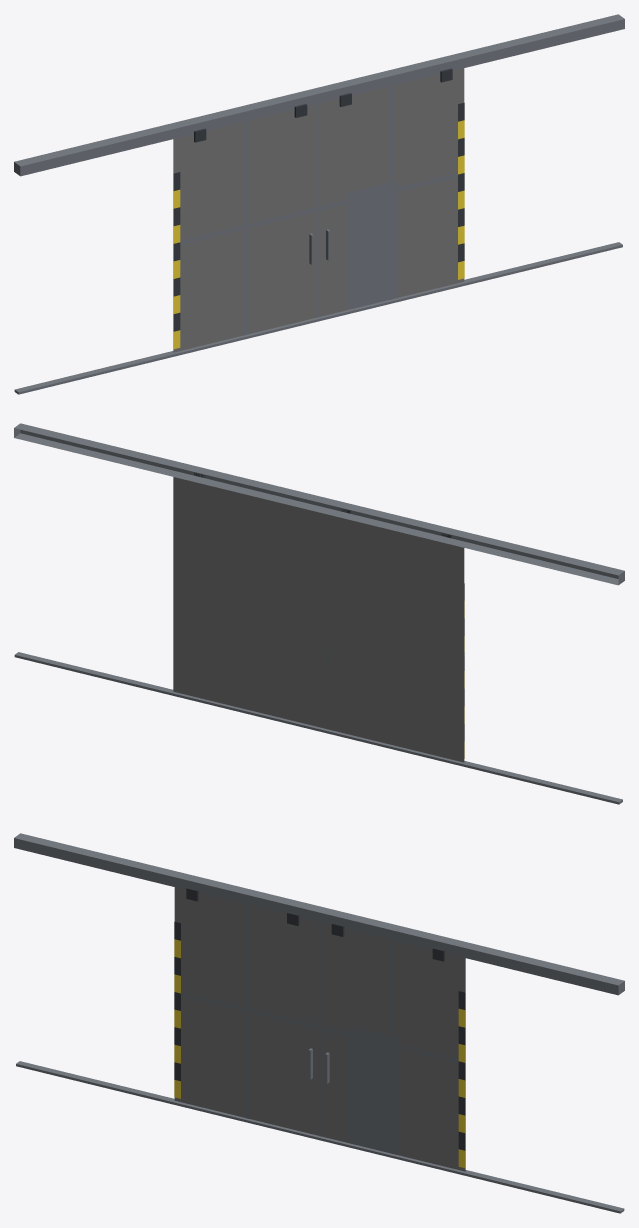
The model's file is entrance_close.fbx.
3 views of the same model, one above another, from view 1: azimuth 30°, elevation 25°; view 2: azimuth 150°, elevation 25°; view 3: azimuth 330°, elevation 25° (orthographic).
Parts seen in each view (by area): view 1: a2013/500/entrance_close; view 2: a2013/500/entrance_close; view 3: a2013/500/entrance_close.
Part boxes in pixels (x1,y1,x2,y2): a2013/500/entrance_close: [14, 14, 624, 394]; a2013/500/entrance_close: [14, 423, 624, 804]; a2013/500/entrance_close: [14, 833, 624, 1213].
Size of the model in its own units: 10.8 by 3.92 by 0.24.
